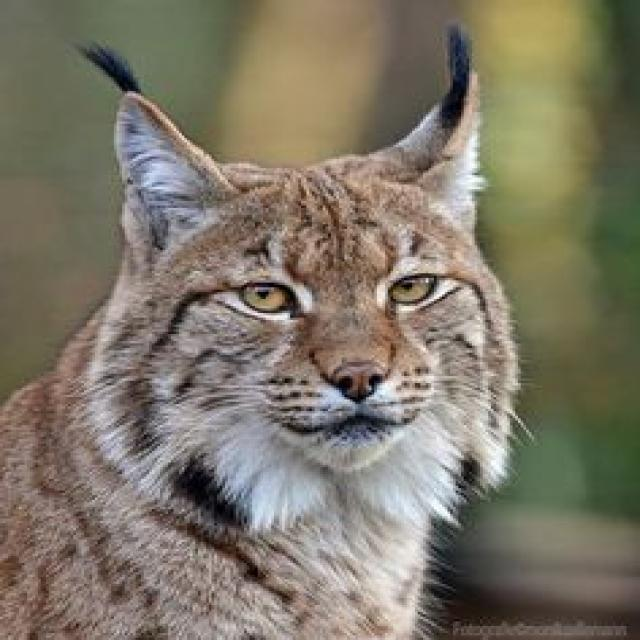Carnivorous: (0, 23, 526, 640)
